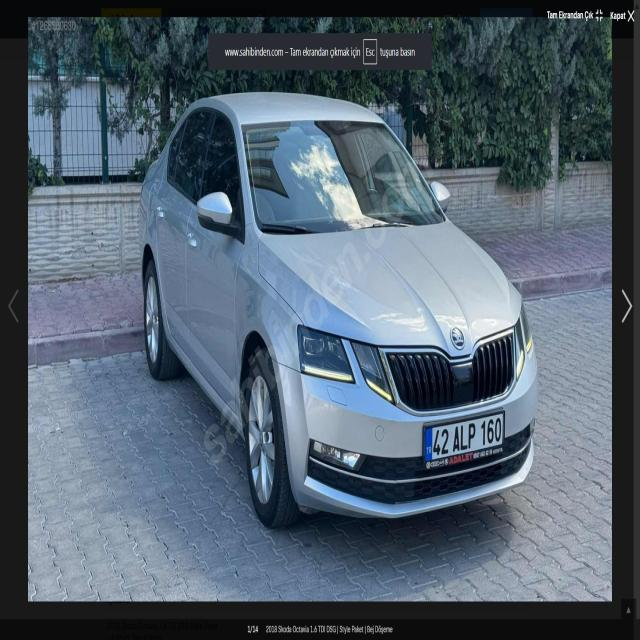skoda: (449, 324, 468, 352)
